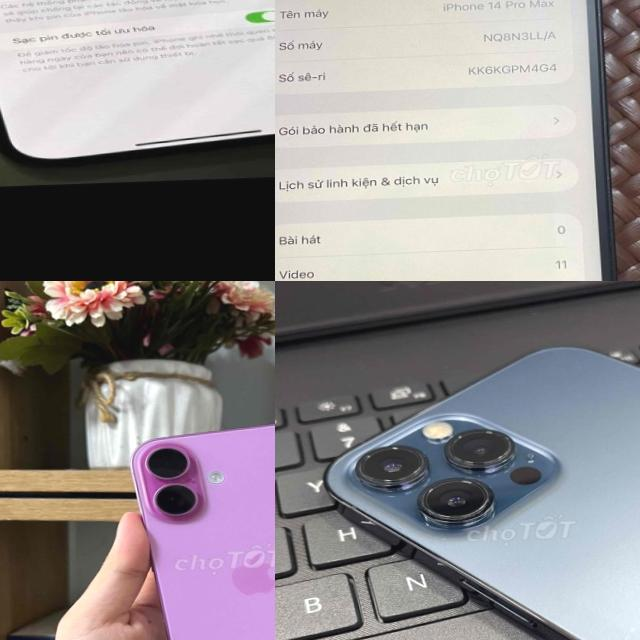gen_12_13: (320, 331, 640, 640), (0, 0, 275, 175)
gen_14: (275, 0, 640, 281)
gen_16: (122, 413, 275, 640)
